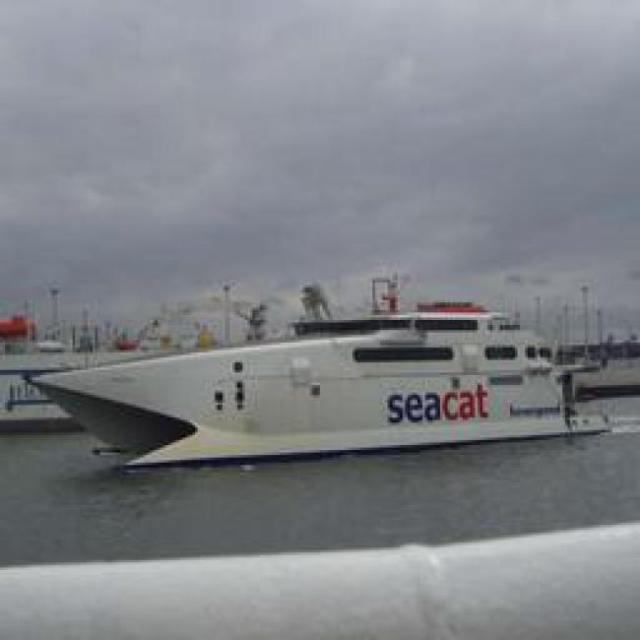boat: (36, 351, 606, 456)
